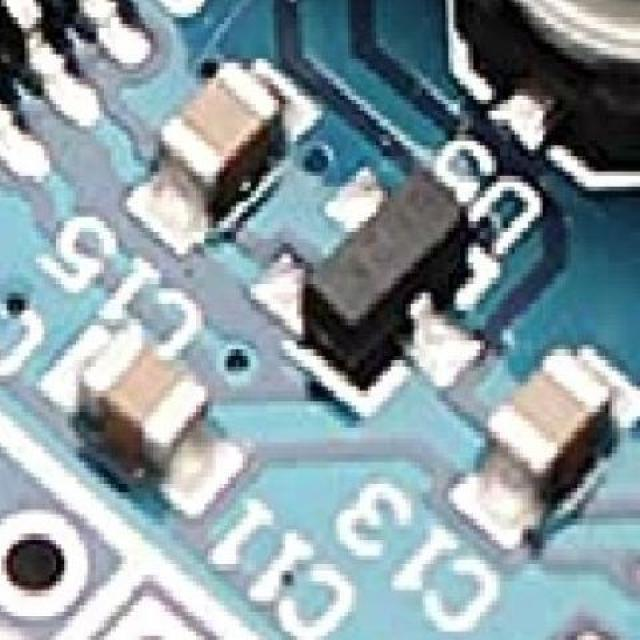kondensator: (484, 350, 616, 506), (75, 318, 205, 462), (155, 66, 272, 198)
